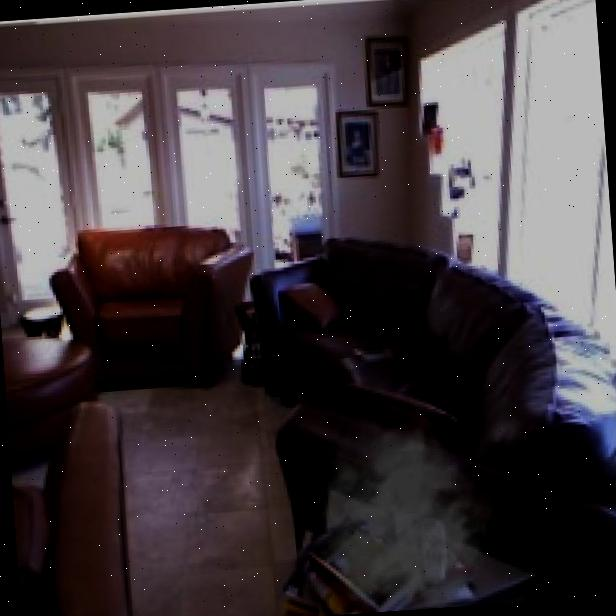smoke: (284, 397, 501, 616)
